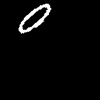chain: (19, 4, 50, 32)
